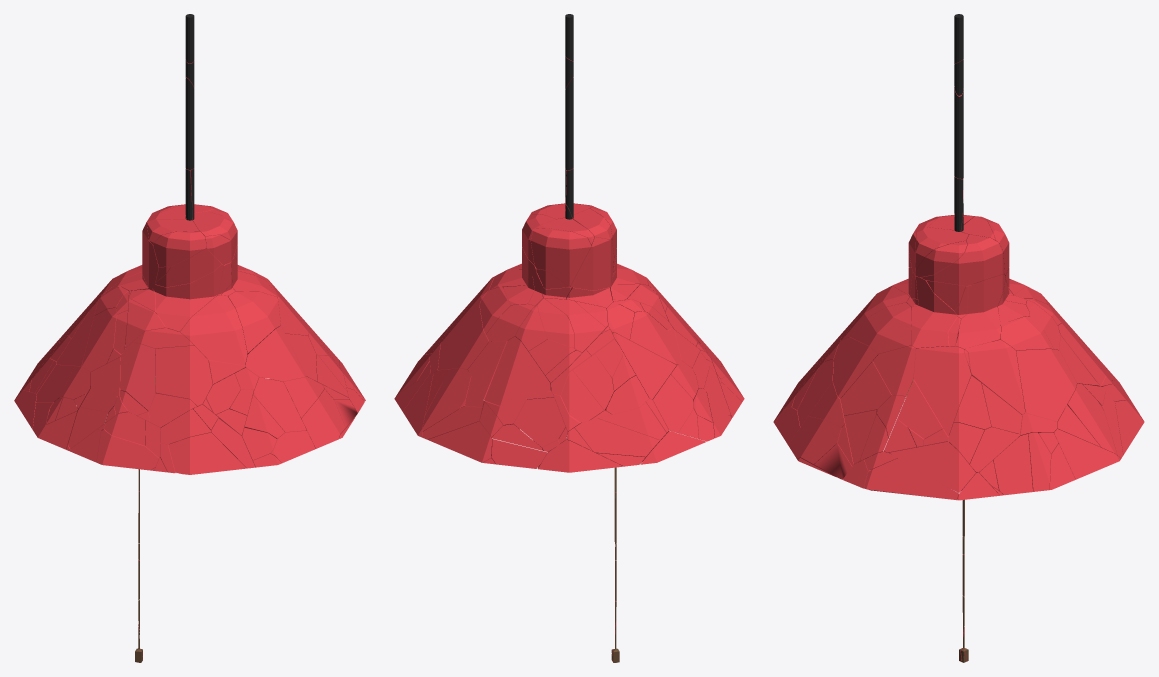
File: Broom Closet Lamp.fbx
The picture shows the model from 3 angles, left to right: view 1: azimuth 30°, elevation 25°; view 2: azimuth 150°, elevation 25°; view 3: azimuth 270°, elevation 25°; orthographic projection. The views are drawn at different scales.
Visible parts, largest first — view 1: Cylinder_cell.159, Cylinder_cell_cell, Cylinder_cell.188, Cylinder_cell.043_cell.001, Cylinder_cell.052, Cylinder_cell.192, Cylinder_cell_cell.007, Cylinder_cell.171_cell.001, Cylinder_cell.199_cell.001, Cylinder_cell.008_cell.004, Cylinder_cell.206_cell.006, Cylinder_cell.079 (+31 smaller); view 2: Cylinder_cell.133, Cylinder_cell.088, Cylinder_cell.175_cell.002, Cylinder_cell.173, Cylinder_cell.123_cell.006, Cylinder_cell.127, Cylinder_cell.071, Cylinder_cell.111, Cylinder_cell.020_cell.004, Cylinder_cell.206_cell.006, Cylinder_cell.028, Cylinder_cell.152_cell.006 (+30 smaller); view 3: Cylinder_cell.051, Cylinder_cell.173, Cylinder_cell.040, Cylinder_cell.058, Cylinder_cell.074, Cylinder_cell.164, Cylinder_cell.006, Cylinder_cell.115_cell.001, Cylinder_cell.052, Cylinder_cell.003_cell.005, Cylinder_cell.168, Cylinder_cell.008_cell.004 (+34 smaller).
Part boxes in pixels (x1,y1,x2,y2): Cylinder_cell.159: [180, 295, 247, 365]; Cylinder_cell_cell: [155, 346, 212, 406]; Cylinder_cell.188: [152, 263, 223, 331]; Cylinder_cell.043_cell.001: [168, 432, 246, 474]; Cylinder_cell.052: [228, 291, 280, 354]; Cylinder_cell.192: [245, 326, 305, 381]; Cylinder_cell_cell.007: [120, 342, 155, 411]; Cylinder_cell.171_cell.001: [96, 429, 159, 470]; Cylinder_cell.199_cell.001: [253, 377, 306, 431]; Cylinder_cell.008_cell.004: [301, 389, 345, 448]; Cylinder_cell.206_cell.006: [82, 307, 117, 371]; Cylinder_cell.079: [153, 231, 206, 267]; Cylinder_cell.133: [484, 336, 550, 405]; Cylinder_cell.088: [531, 228, 590, 286]; Cylinder_cell.175_cell.002: [574, 418, 659, 458]; Cylinder_cell.173: [438, 305, 491, 371]; Cylinder_cell.123_cell.006: [514, 397, 565, 446]; Cylinder_cell.127: [613, 332, 676, 399]; Cylinder_cell.071: [570, 237, 613, 290]; Cylinder_cell.111: [538, 440, 623, 472]; Cylinder_cell.020_cell.004: [422, 368, 471, 431]; Cylinder_cell.206_cell.006: [630, 311, 681, 365]; Cylinder_cell.028: [428, 421, 491, 462]; Cylinder_cell.152_cell.006: [652, 374, 693, 432]; Cylinder_cell.051: [913, 346, 971, 436]; Cylinder_cell.173: [1016, 349, 1076, 421]; Cylinder_cell.040: [964, 339, 1025, 414]; Cylinder_cell.058: [956, 274, 1005, 348]; Cylinder_cell.074: [920, 234, 1004, 285]; Cylinder_cell.164: [889, 442, 975, 492]; Cylinder_cell.006: [911, 276, 958, 348]; Cylinder_cell.115_cell.001: [864, 458, 958, 500]; Cylinder_cell.052: [849, 302, 911, 353]; Cylinder_cell.003_cell.005: [993, 434, 1032, 495]; Cylinder_cell.168: [1054, 429, 1120, 479]; Cylinder_cell.008_cell.004: [788, 416, 841, 464].
Bounding box in the file's own units: 200 × 399 × 200.
